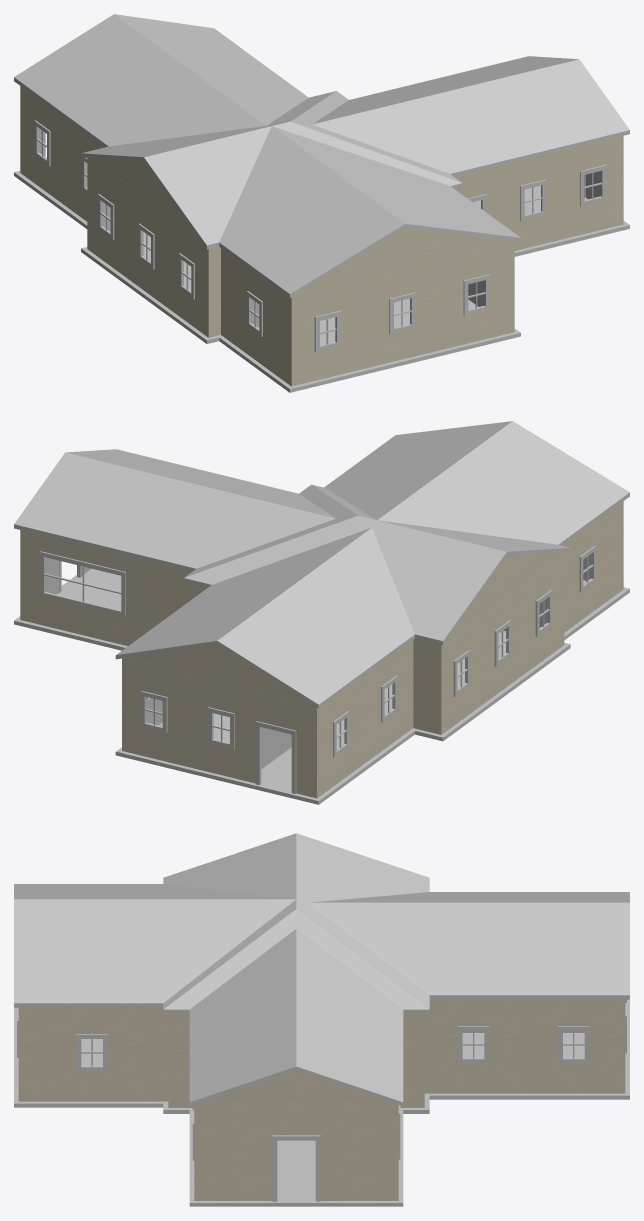
3 views of the same model, one above another, from view 1: azimuth 30°, elevation 25°; view 2: azimuth 150°, elevation 25°; view 3: azimuth 270°, elevation 25° (orthographic). The views are drawn at different scales.
Visible parts, largest first — view 1: building_roof, building_exterior, building_windows, building_floor; view 2: building_roof, building_exterior, building_floor, building_windows; view 3: building_roof, building_exterior, building_floor, building_windows.
Boxes of the visible parts, box(x1,y1,x2,y2) form: building_roof: box(14, 14, 629, 297); building_exterior: box(20, 86, 623, 386); building_windows: box(34, 120, 606, 352); building_floor: box(14, 163, 629, 392); building_roof: box(14, 421, 629, 708); building_exterior: box(20, 501, 623, 798); building_floor: box(14, 569, 629, 804); building_windows: box(40, 546, 595, 793); building_roof: box(14, 833, 629, 1106); building_exterior: box(18, 999, 625, 1200); building_floor: box(14, 999, 629, 1206); building_windows: box(17, 999, 626, 1201).
Bounding box in the file's own units: 1105 × 341 × 1281.
